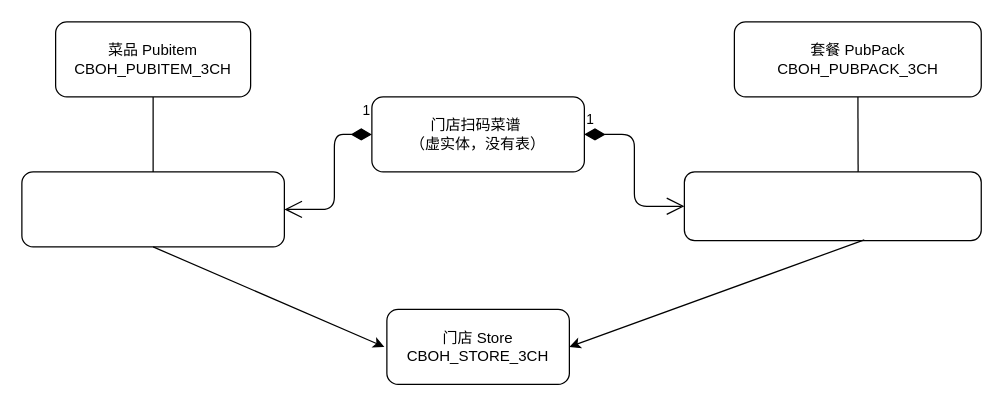
Image size: 1004x406. Some labels were removed from this diagram. Each missing label, with the box of its shape:
扫码菜谱明细之套餐 ItemScanPrgpackage CBOH_SCAN_ITEMPRGPACKAGE_3CH: (683, 171, 981, 241)
扫码菜谱明细之菜品 ItemScanPrgd CBOH_SCAN_ITEMPRGD_3CH: (21, 171, 284, 247)
